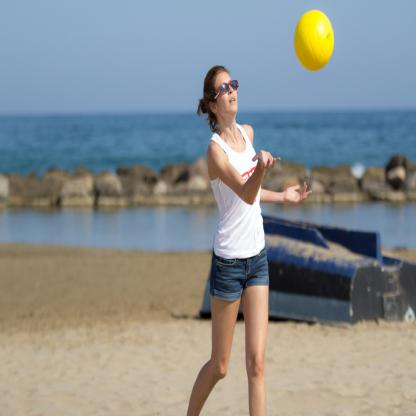Ball: (293, 9, 335, 71)
